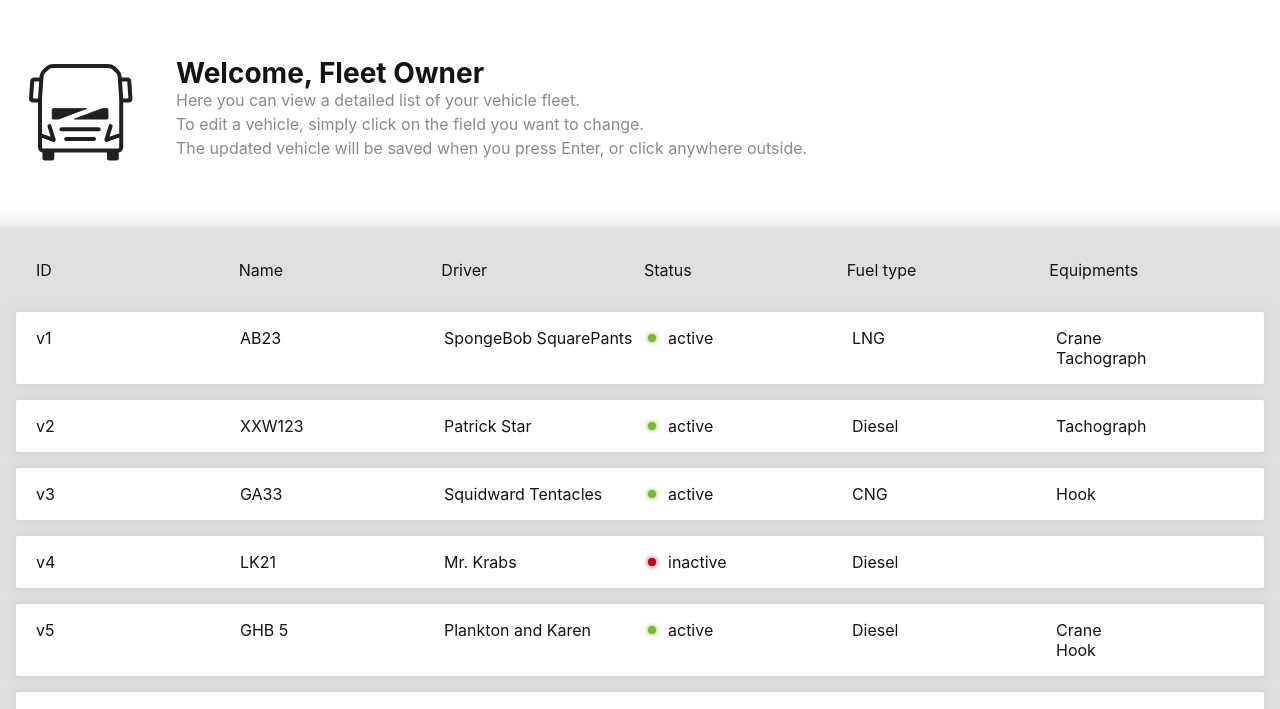
Scenario: Page interactivity works as expected › switches to an input field when clicking on a piece of vehicle data
Click the element with test id "VehicleTableCell-text" showing "v1".
click(44, 338)  # box top-left (36, 328), bottom-right (52, 348)
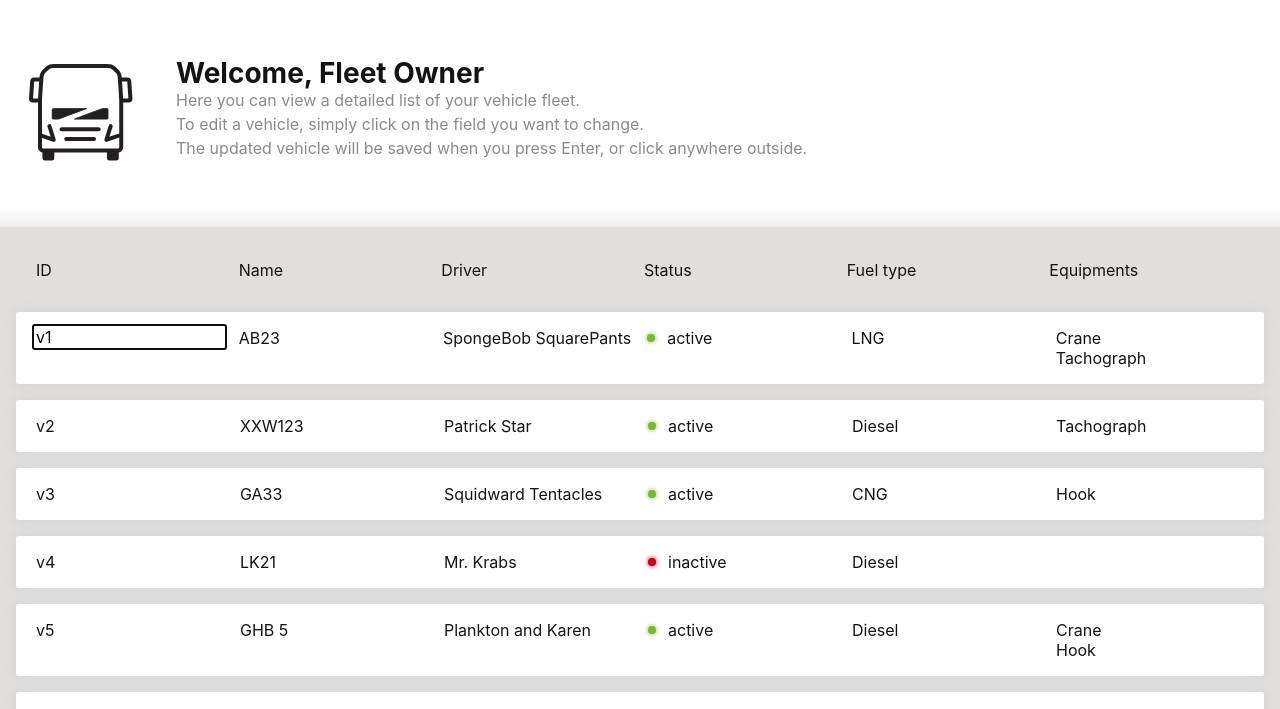
Now the field with test id "VehicleTableCell-input" holds "v1", box top-left (32, 324), bottom-right (227, 350)
